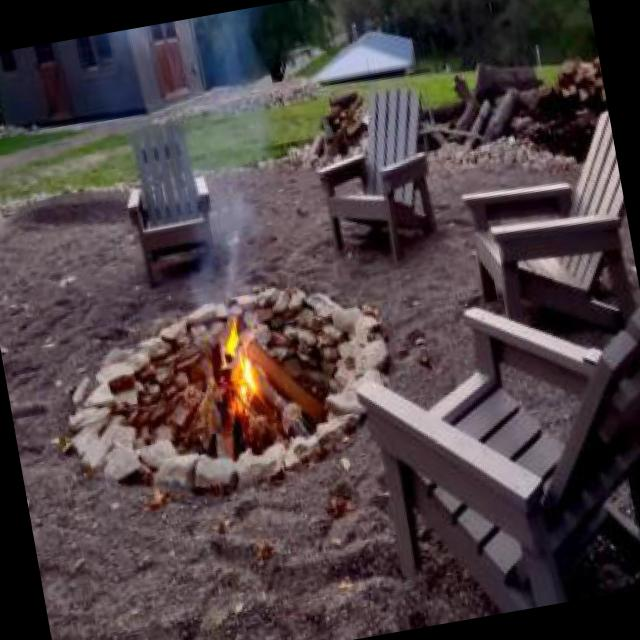fire: (217, 322, 266, 422)
smoke: (170, 144, 277, 338)
